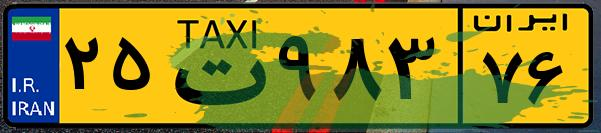2: (57, 26, 110, 100)
3: (385, 28, 445, 110)
5: (110, 28, 158, 98)
6: (525, 38, 570, 115)
7: (475, 38, 525, 113)
8: (330, 28, 385, 110)
9: (270, 28, 330, 110)
ت: (158, 12, 270, 120)
